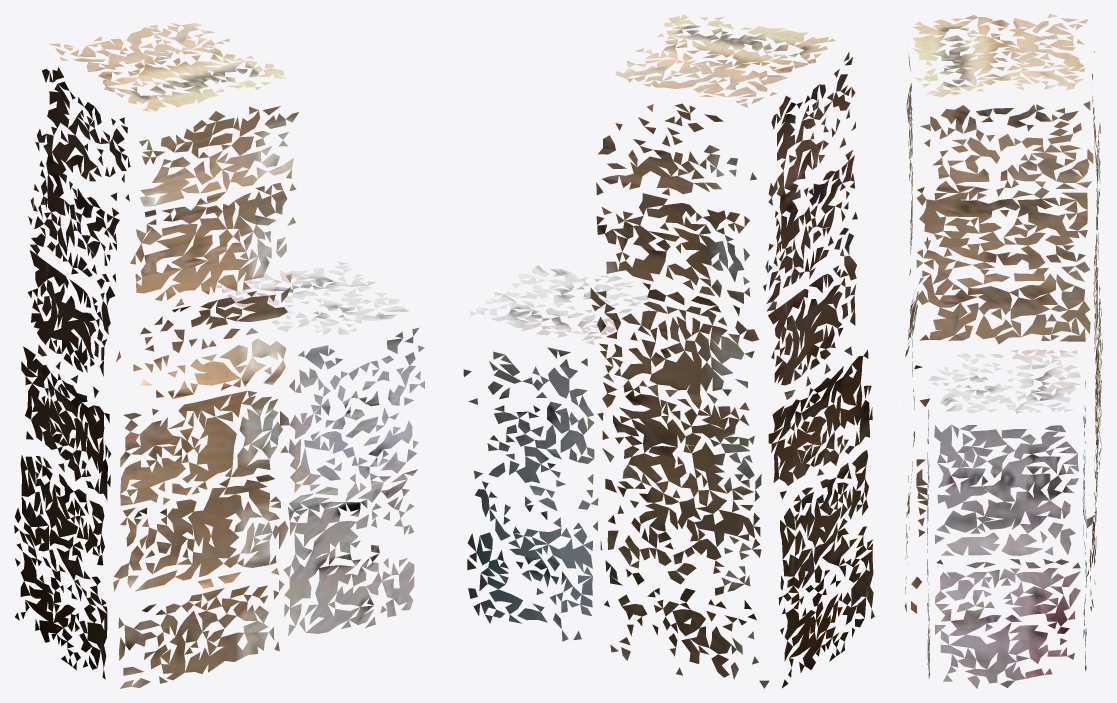
The model's file is post_stack.glb.
3 renders of one model, left to right at view 1: azimuth 30°, elevation 25°; view 2: azimuth 150°, elevation 25°; view 3: azimuth 270°, elevation 25°, orthographic. The views are drawn at different scales.
Parts seen in each view (by area): view 1: post_stack; view 2: post_stack; view 3: post_stack.
Boxes of the visible parts, x1,y1,x2,y2 form: post_stack: (14,22,424,688); post_stack: (463,14,874,688); post_stack: (905,14,1102,688).
Size of the model in its own units: 0.8909 by 1.48 by 0.4954.
1 material, 1 textured.
